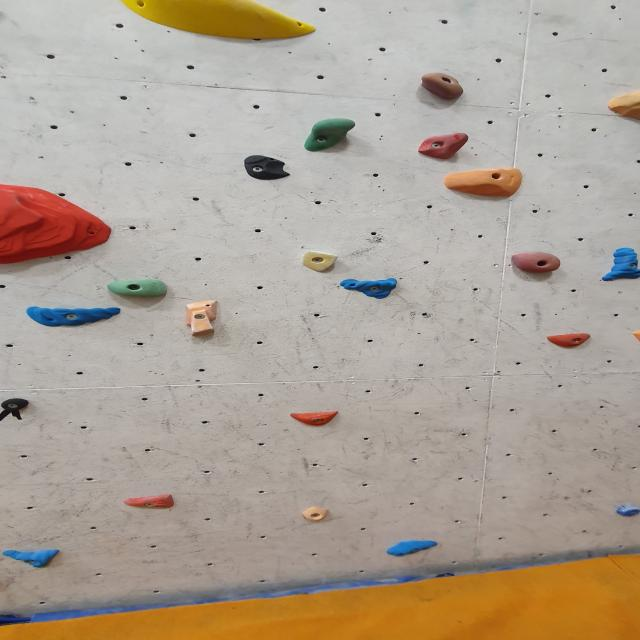Crimp: (0, 183, 115, 267), (23, 305, 126, 328), (337, 278, 399, 298), (1, 550, 64, 568), (384, 539, 440, 557), (122, 493, 178, 510), (299, 253, 339, 275), (288, 412, 344, 427), (544, 334, 596, 350), (302, 505, 335, 521), (613, 503, 640, 517), (630, 328, 640, 342)
Jug: (302, 119, 359, 154), (414, 134, 470, 161), (418, 74, 470, 102), (105, 278, 171, 299), (509, 253, 565, 276)
Pinch: (182, 301, 225, 339), (599, 247, 640, 280), (0, 392, 37, 414)
Sloper: (116, 0, 321, 42), (442, 168, 526, 199), (239, 157, 294, 181), (604, 84, 640, 120)
